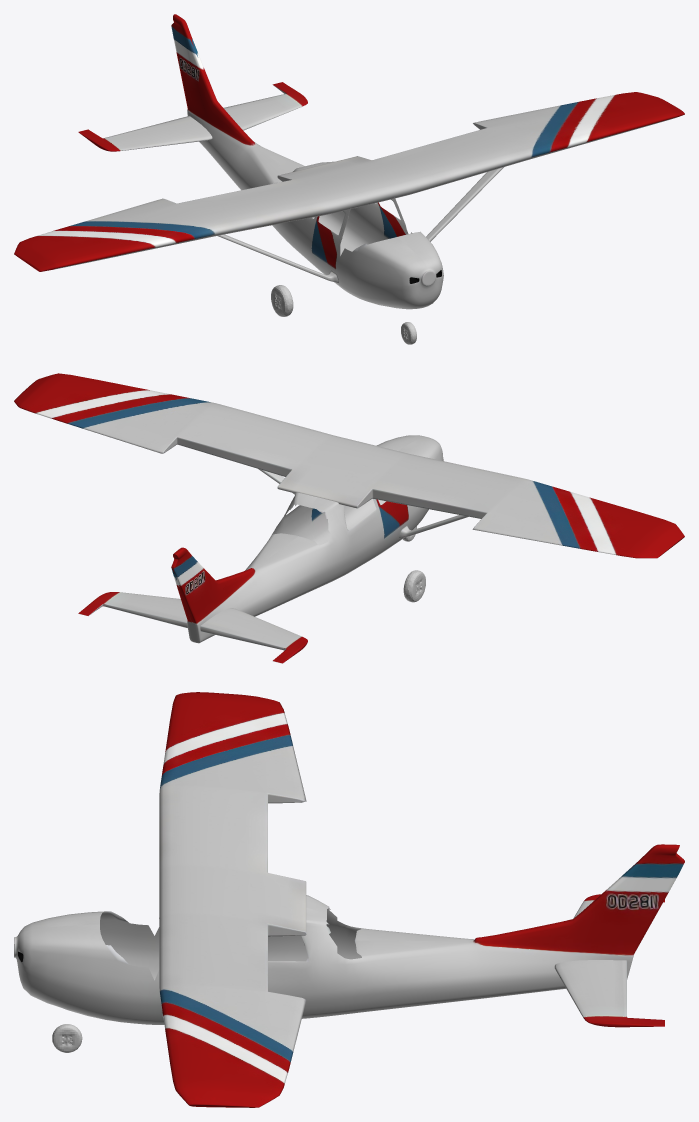
Rendered from CessnaBodyForShade.obj.
3 renders of one model, top to bottom at view 1: azimuth 30°, elevation 25°; view 2: azimuth 150°, elevation 25°; view 3: azimuth 270°, elevation 25°, orthographic. The views are drawn at different scales.
Visible parts, largest first — view 1: A23DOBJ_001_Mesh.007, A23DOBJ_001_Mesh.026, A23DOBJ_001_Mesh.006, A23DOBJ_001_Mesh.019, A23DOBJ_001_Mesh.020, A23DOBJ_003_Mesh.002; view 2: A23DOBJ_001_Mesh.007, A23DOBJ_001_Mesh.026, A23DOBJ_001_Mesh.006, A23DOBJ_003_Mesh.002; view 3: A23DOBJ_001_Mesh.007, A23DOBJ_001_Mesh.026, A23DOBJ_001_Mesh.006, A23DOBJ_004_Mesh.003.
Part boxes in pixels (x1,y1,x2,y2): A23DOBJ_001_Mesh.007: (14, 92, 684, 271); A23DOBJ_001_Mesh.026: (171, 14, 443, 309); A23DOBJ_001_Mesh.006: (78, 82, 307, 151); A23DOBJ_001_Mesh.019: (426, 167, 503, 241); A23DOBJ_001_Mesh.020: (218, 234, 338, 282); A23DOBJ_003_Mesh.002: (271, 285, 293, 316); A23DOBJ_001_Mesh.007: (14, 373, 684, 558); A23DOBJ_001_Mesh.026: (171, 435, 443, 643); A23DOBJ_001_Mesh.006: (78, 592, 307, 663); A23DOBJ_003_Mesh.002: (403, 570, 425, 602); A23DOBJ_001_Mesh.007: (159, 692, 306, 1107); A23DOBJ_001_Mesh.026: (14, 844, 684, 1024); A23DOBJ_001_Mesh.006: (554, 894, 664, 1027); A23DOBJ_004_Mesh.003: (52, 1024, 82, 1052).
Bounding box in the file's own units: 8.48 × 1.98 × 5.83.
